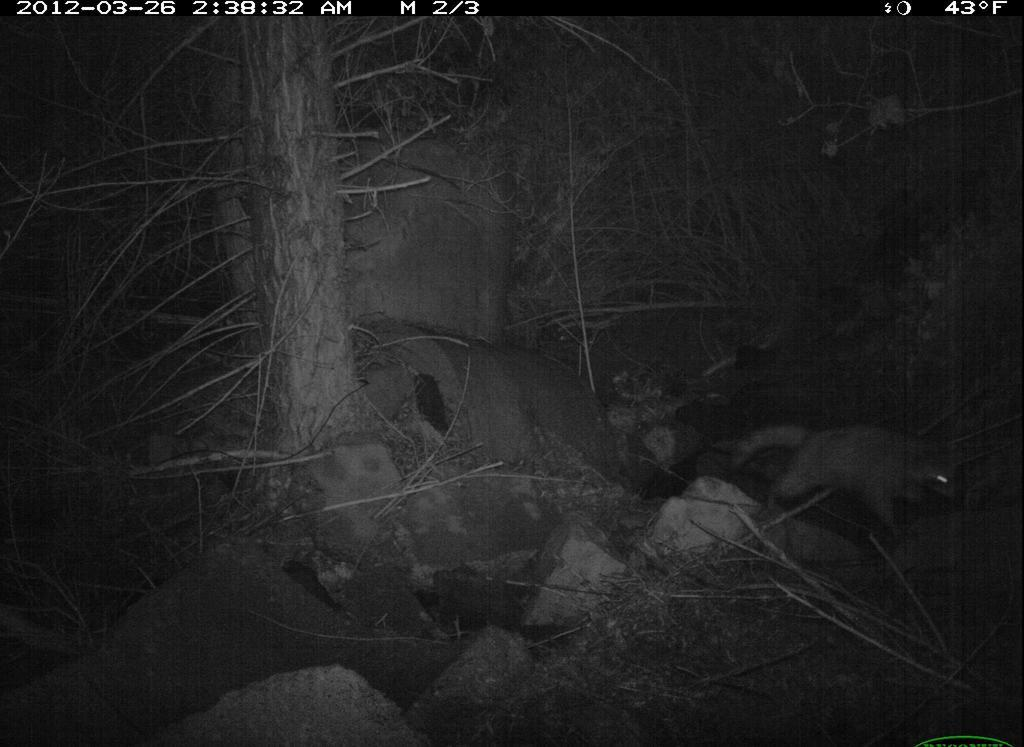raccoon: (726, 410, 966, 537)
